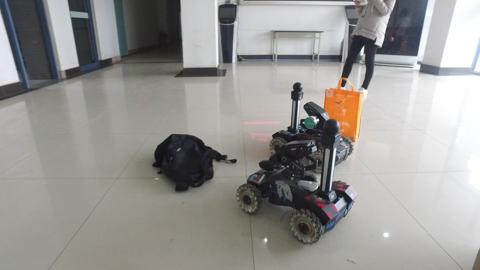chariot: (238, 123, 360, 238), (271, 81, 357, 160)
